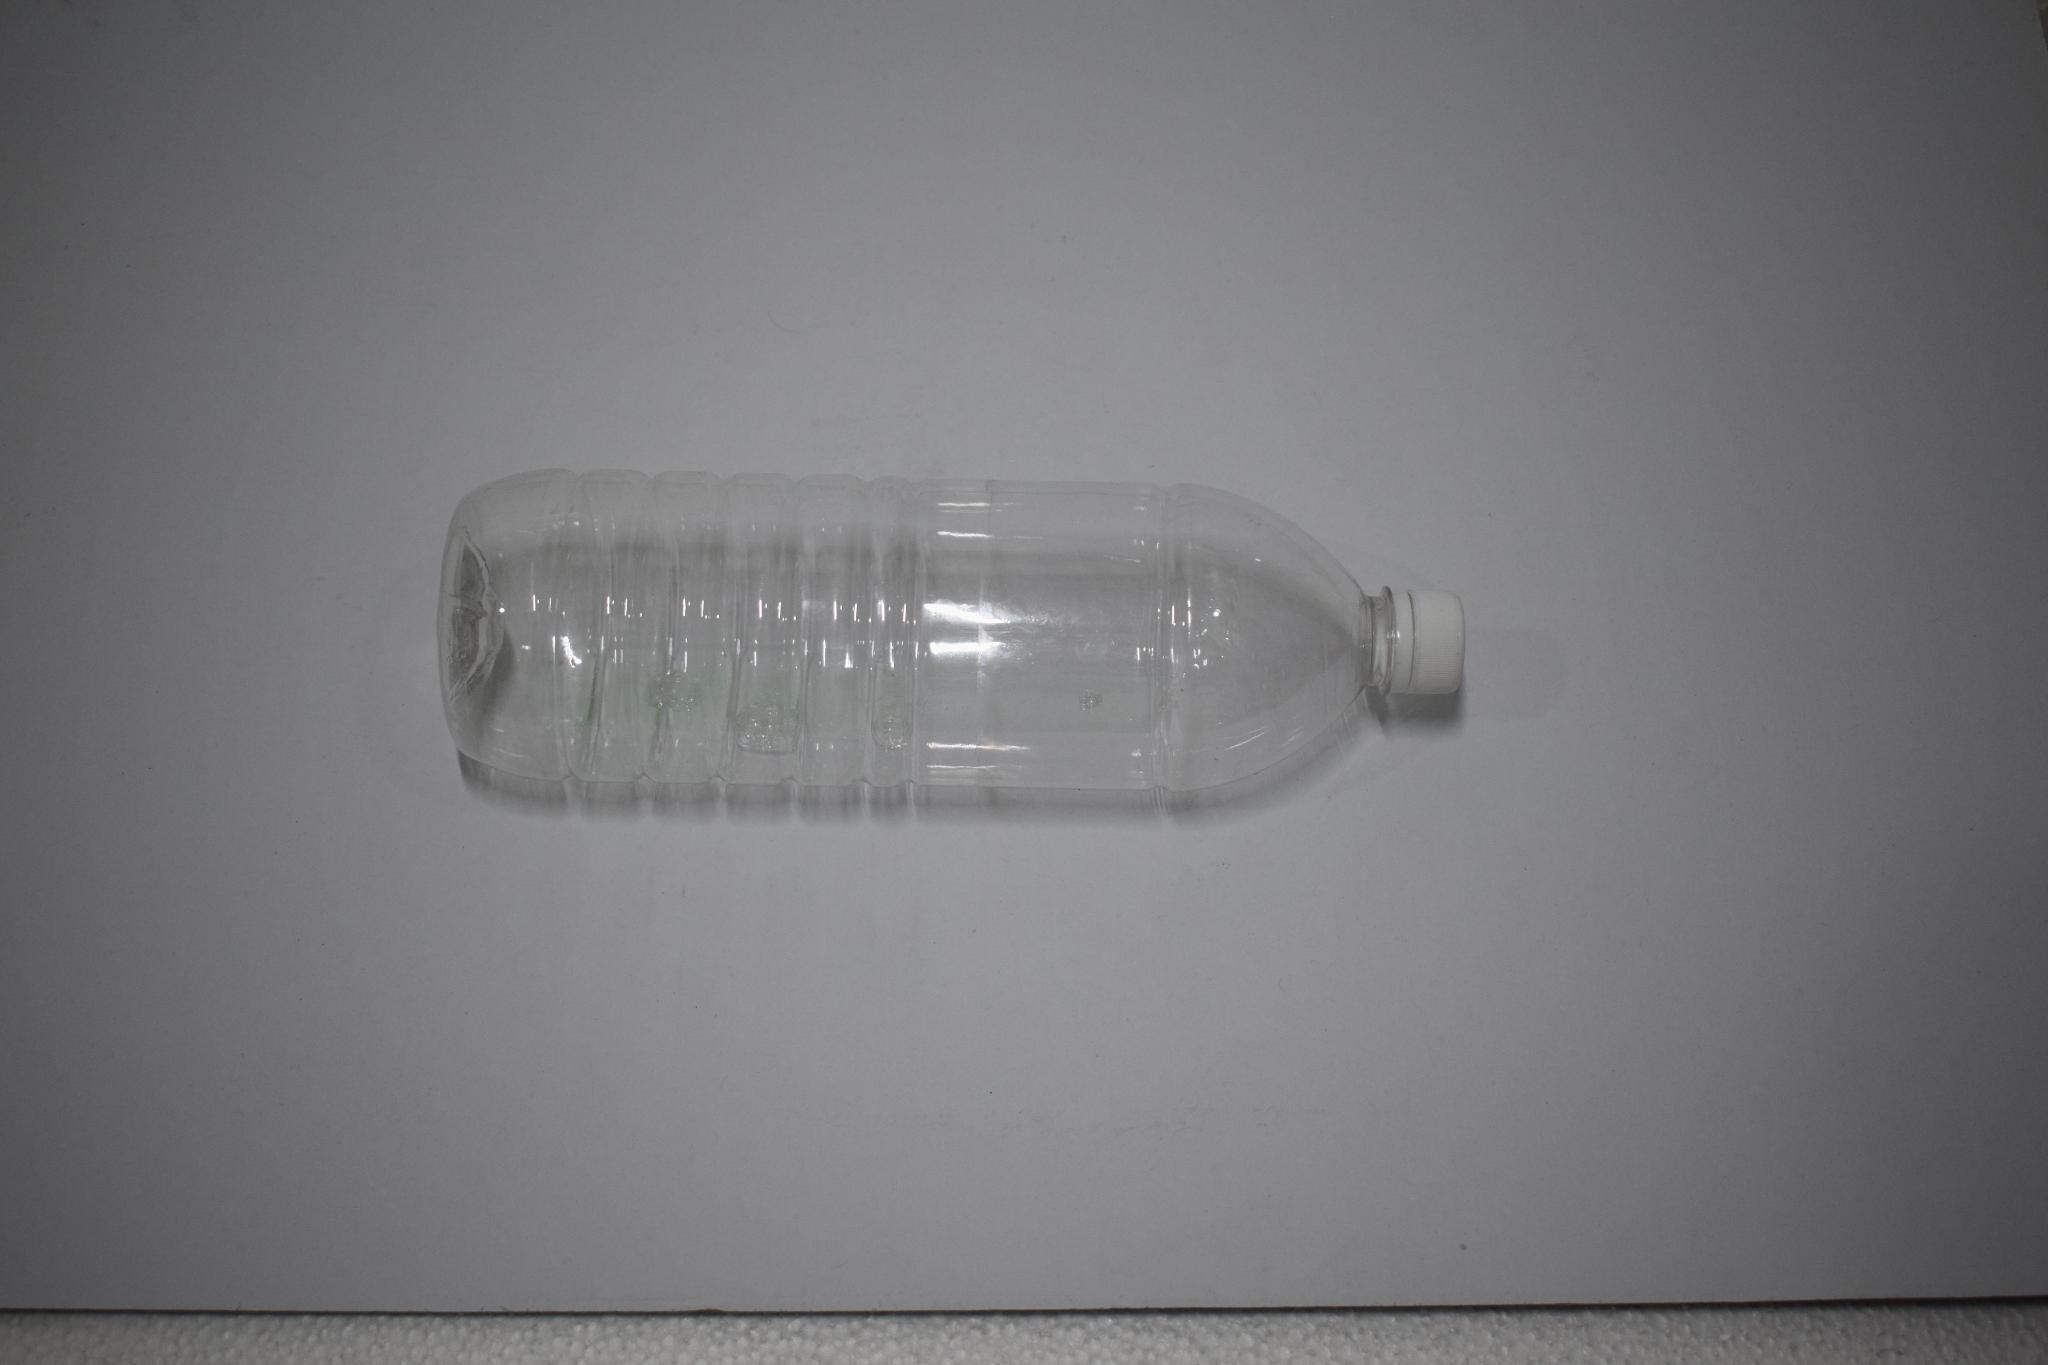bottle: (409, 445, 1525, 802)
